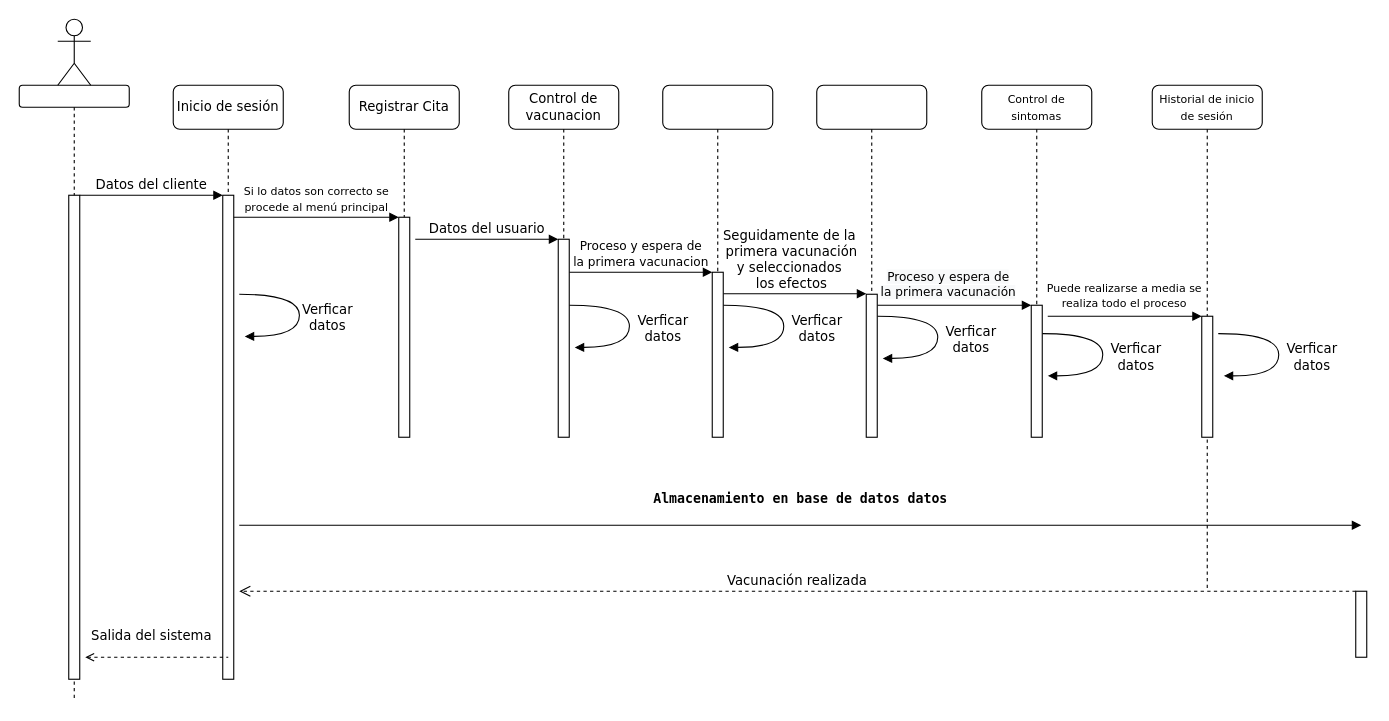
The diagram is 1389 pixels wide and 721 high, and some of its shapes have lost their labels. The box of each missing label's shape, as (x1, y1, x2, y2) in pixels:
Cita de segunda dosis: (816, 84, 927, 437)
Control de Síntomas: (662, 84, 773, 437)
Gestor: (18, 84, 129, 701)
